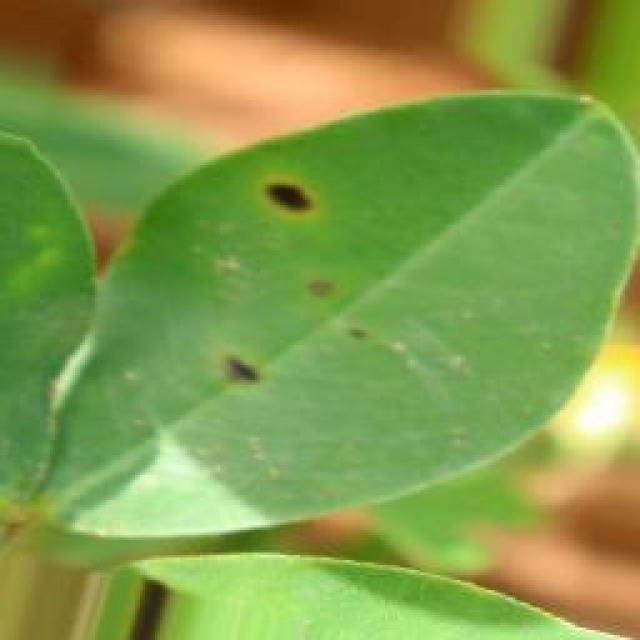Sigatoka: (278, 278, 378, 363), (235, 137, 325, 229), (204, 340, 280, 416)
